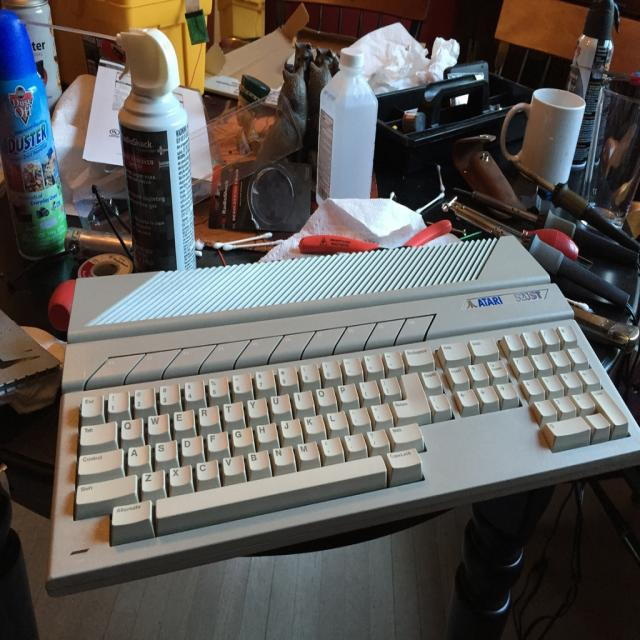desk: (0, 72, 639, 558)
keyboard: (51, 316, 634, 576)
